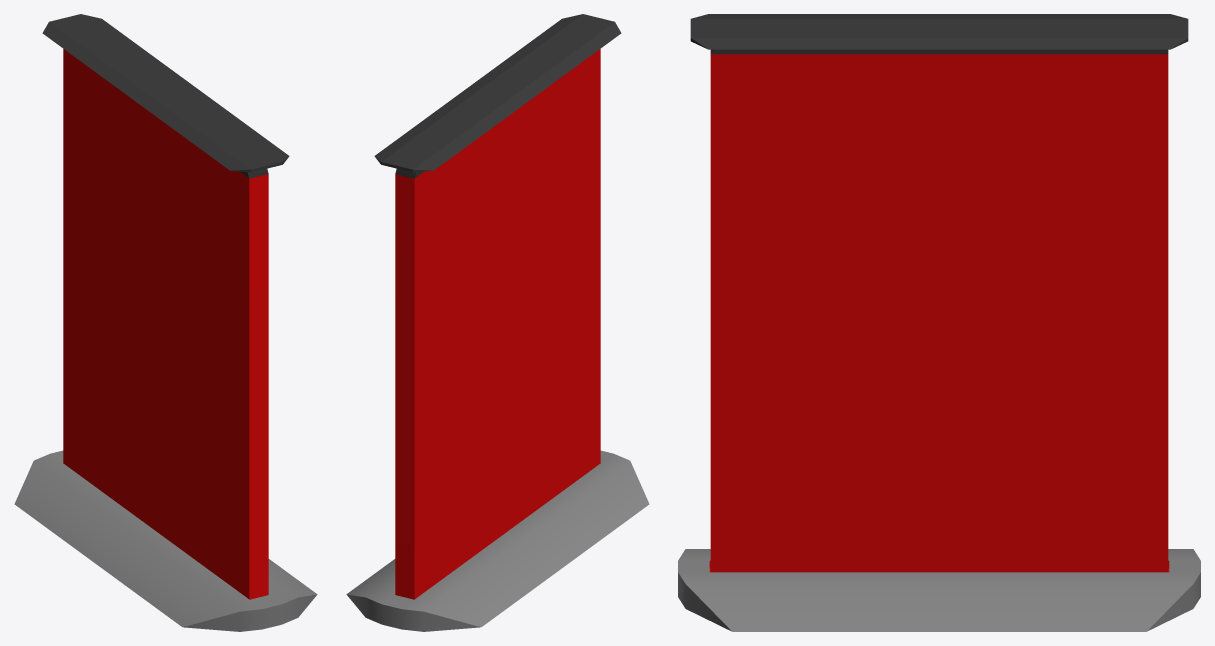
The model's file is Door.fbx.
The picture shows the model from 3 angles, left to right: view 1: azimuth 30°, elevation 25°; view 2: azimuth 150°, elevation 25°; view 3: azimuth 270°, elevation 25°; orthographic projection. The views are drawn at different scales.
Visible parts, largest first — view 1: DoorTop, DoorBottom; view 2: DoorTop, DoorBottom; view 3: DoorTop, DoorBottom.
Part boxes in pixels (left/top/right/bottom): DoorTop: left=42, top=14, right=289, bottom=599; DoorBottom: left=14, top=450, right=317, bottom=631; DoorTop: left=374, top=14, right=621, bottom=599; DoorBottom: left=346, top=450, right=649, bottom=631; DoorTop: left=690, top=14, right=1188, bottom=572; DoorBottom: left=678, top=549, right=1200, bottom=631.
Size of the model in its own units: 6.96 by 22.52 by 18.95.
